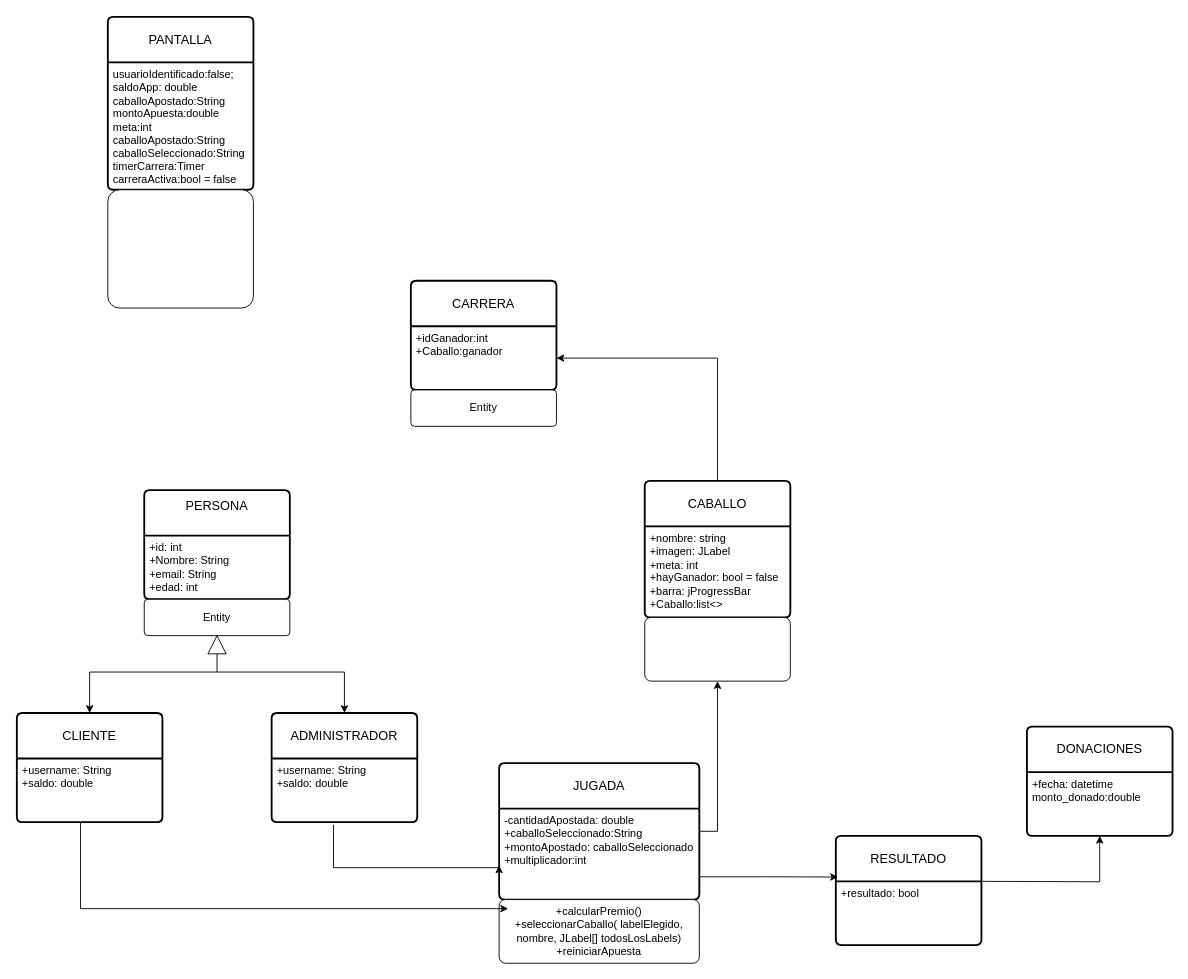
Some shapes in this 1188 by 979 pixel diagram are drawn without their labels. The centre of each missing label's shape, as x and y in pixels:
"+actualizarSaldo() +moverSalida()" goes at pixel 180 248.
"run() private void finalizarCarrera(ganador)" goes at pixel 717 649.
